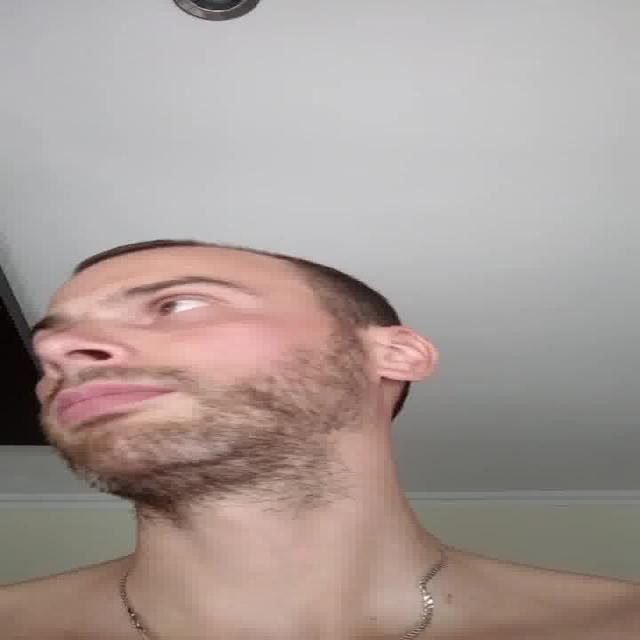earlobe: (371, 326, 438, 385)
